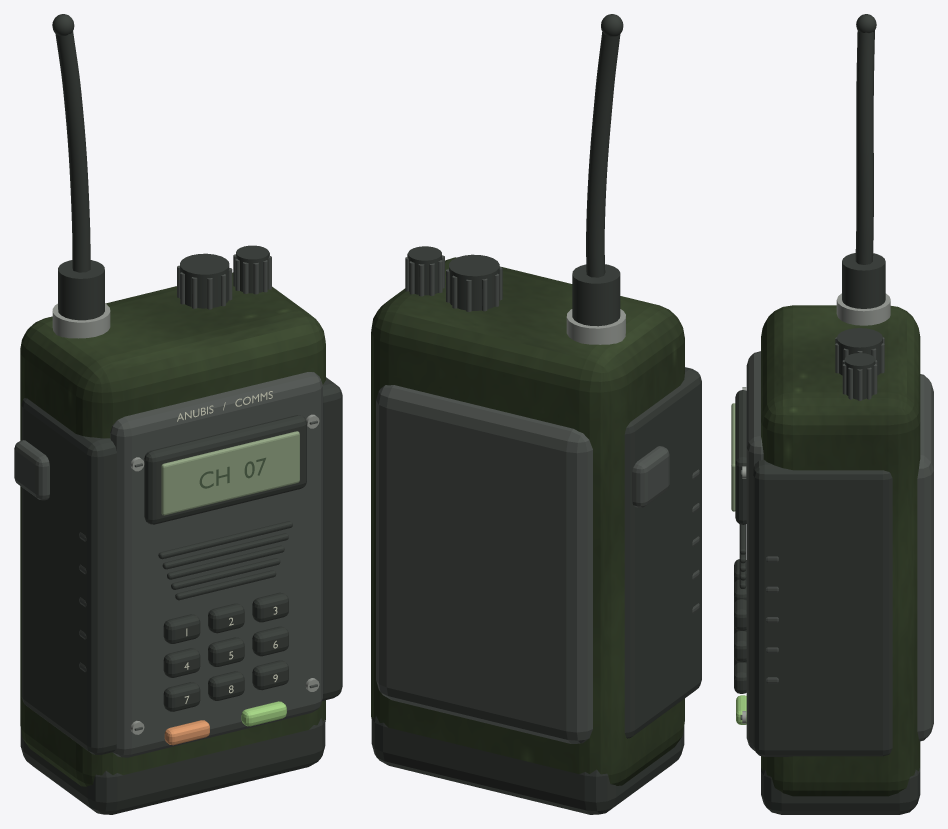
File: radio-realista.glb
The picture shows the model from 3 angles, left to right: view 1: azimuth 30°, elevation 25°; view 2: azimuth 150°, elevation 25°; view 3: azimuth 270°, elevation 25°; orthographic projection. The views are drawn at different scales.
Parts seen in each view (by area): view 1: Goma negra, Polímero carbón, Carcasa verde oliva, Pantalla verde polarizada, Acero oscurecido, Piloto verde, Botón ámbar; view 2: Polímero carbón, Carcasa verde oliva, Goma negra, Acero oscurecido; view 3: Goma negra, Carcasa verde oliva, Polímero carbón, Acero oscurecido, Pantalla verde polarizada.
Part boxes in pixels (box(x1,y1,x2,y2)): Goma negra: box(20, 14, 342, 814); Polímero carbón: box(14, 252, 322, 757); Carcasa verde oliva: box(20, 272, 325, 786); Pantalla verde polarizada: box(161, 431, 299, 515); Acero oscurecido: box(52, 303, 319, 734); Piloto verde: box(241, 701, 286, 726); Botón ámbar: box(164, 720, 209, 745); Polímero carbón: box(376, 253, 699, 743); Carcasa verde oliva: box(371, 257, 684, 785); Goma negra: box(371, 14, 701, 814); Acero oscurecido: box(566, 309, 625, 344); Goma negra: box(734, 14, 920, 814); Carcasa verde oliva: box(761, 305, 920, 796); Polímero carbón: box(740, 337, 933, 750); Acero oscurecido: box(742, 293, 890, 723); Pantalla verde polarizada: box(731, 403, 735, 511).
Bounding box in the file's own units: 0.221 × 0.6095 × 0.1585.
9 materials, 1 textured.
